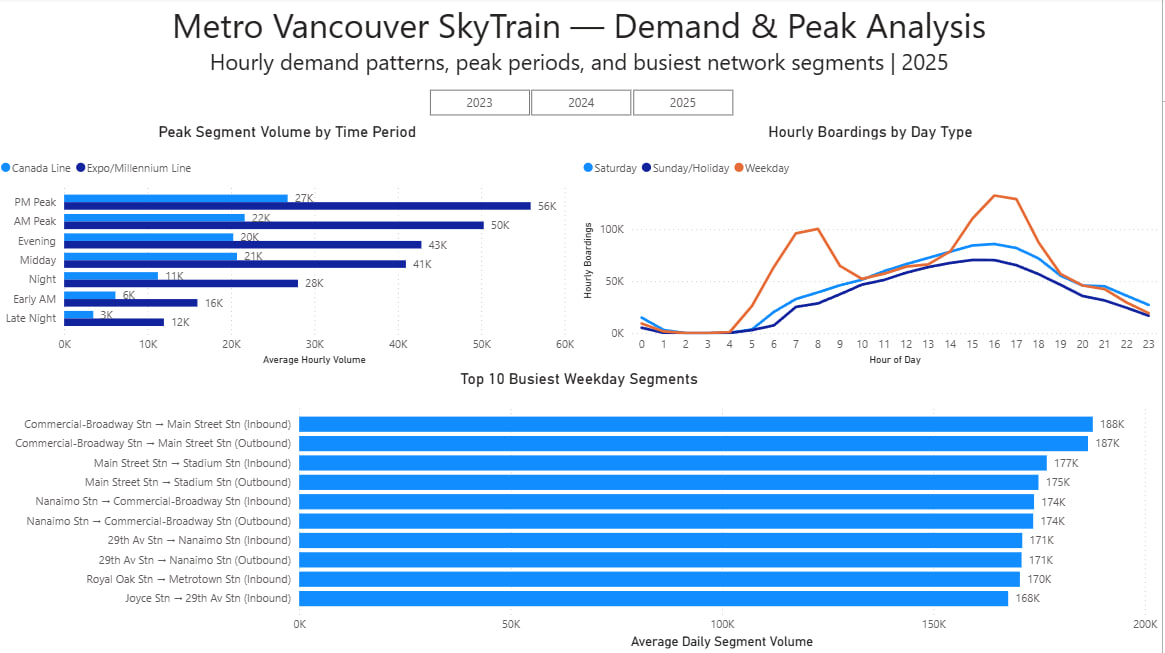

What the dashboard file says about the page in this screenshot:
{"tool":"powerbi","page":{"name":"Demand & Peak Analysis","canvas":[1280,720],"ordinal":1},"visuals":[{"type":"lineChart","title":"Hourly Boardings by Day Type","fields":{"Category":["public hourly_station.hour_24"],"Y":["public hourly_station.Hourly Boardings"],"Series":["public hourly_station.day_type"]},"box":[639.5,137.2,640.8,271.7],"z":0},{"type":"slicer","fields":{"Values":["DimYear.Year"]},"box":[450.1,94.7,382.8,42.5],"z":1000},{"type":"clusteredBarChart","title":"Top 10 Busiest Weekday Segments","fields":{"Y":["public daily_segments.Average Daily Segment Volume"],"Category":["public daily_segments.Segment Direction"]},"box":[0,408.9,1280.3,311.5],"z":2000},{"type":"clusteredBarChart","title":"Peak Segment Volume by Time Period","fields":{"Category":["public busiest_segments.time_period"],"Y":["public busiest_segments.Peak Segment Volume"],"Series":["public busiest_segments.seg_mode"]},"box":[0,137.2,639.5,271.7],"z":3000},{"type":"textbox","box":[157.8,0,964.7,94.7],"z":4000}]}

Visuals, with their boxes in screenshot pixels (x1, y1, x2, y2), scaled from the page's 1280x720 canvas onto the 1165x653 screenshot:
"Hourly Boardings by Day Type" lineChart: left=582, top=124, right=1164, bottom=371
slicer - DimYear.Year: left=410, top=86, right=758, bottom=124
"Top 10 Busiest Weekday Segments" clusteredBarChart: left=0, top=371, right=1164, bottom=652
"Peak Segment Volume by Time Period" clusteredBarChart: left=0, top=124, right=582, bottom=371
textbox: left=144, top=0, right=1022, bottom=86
